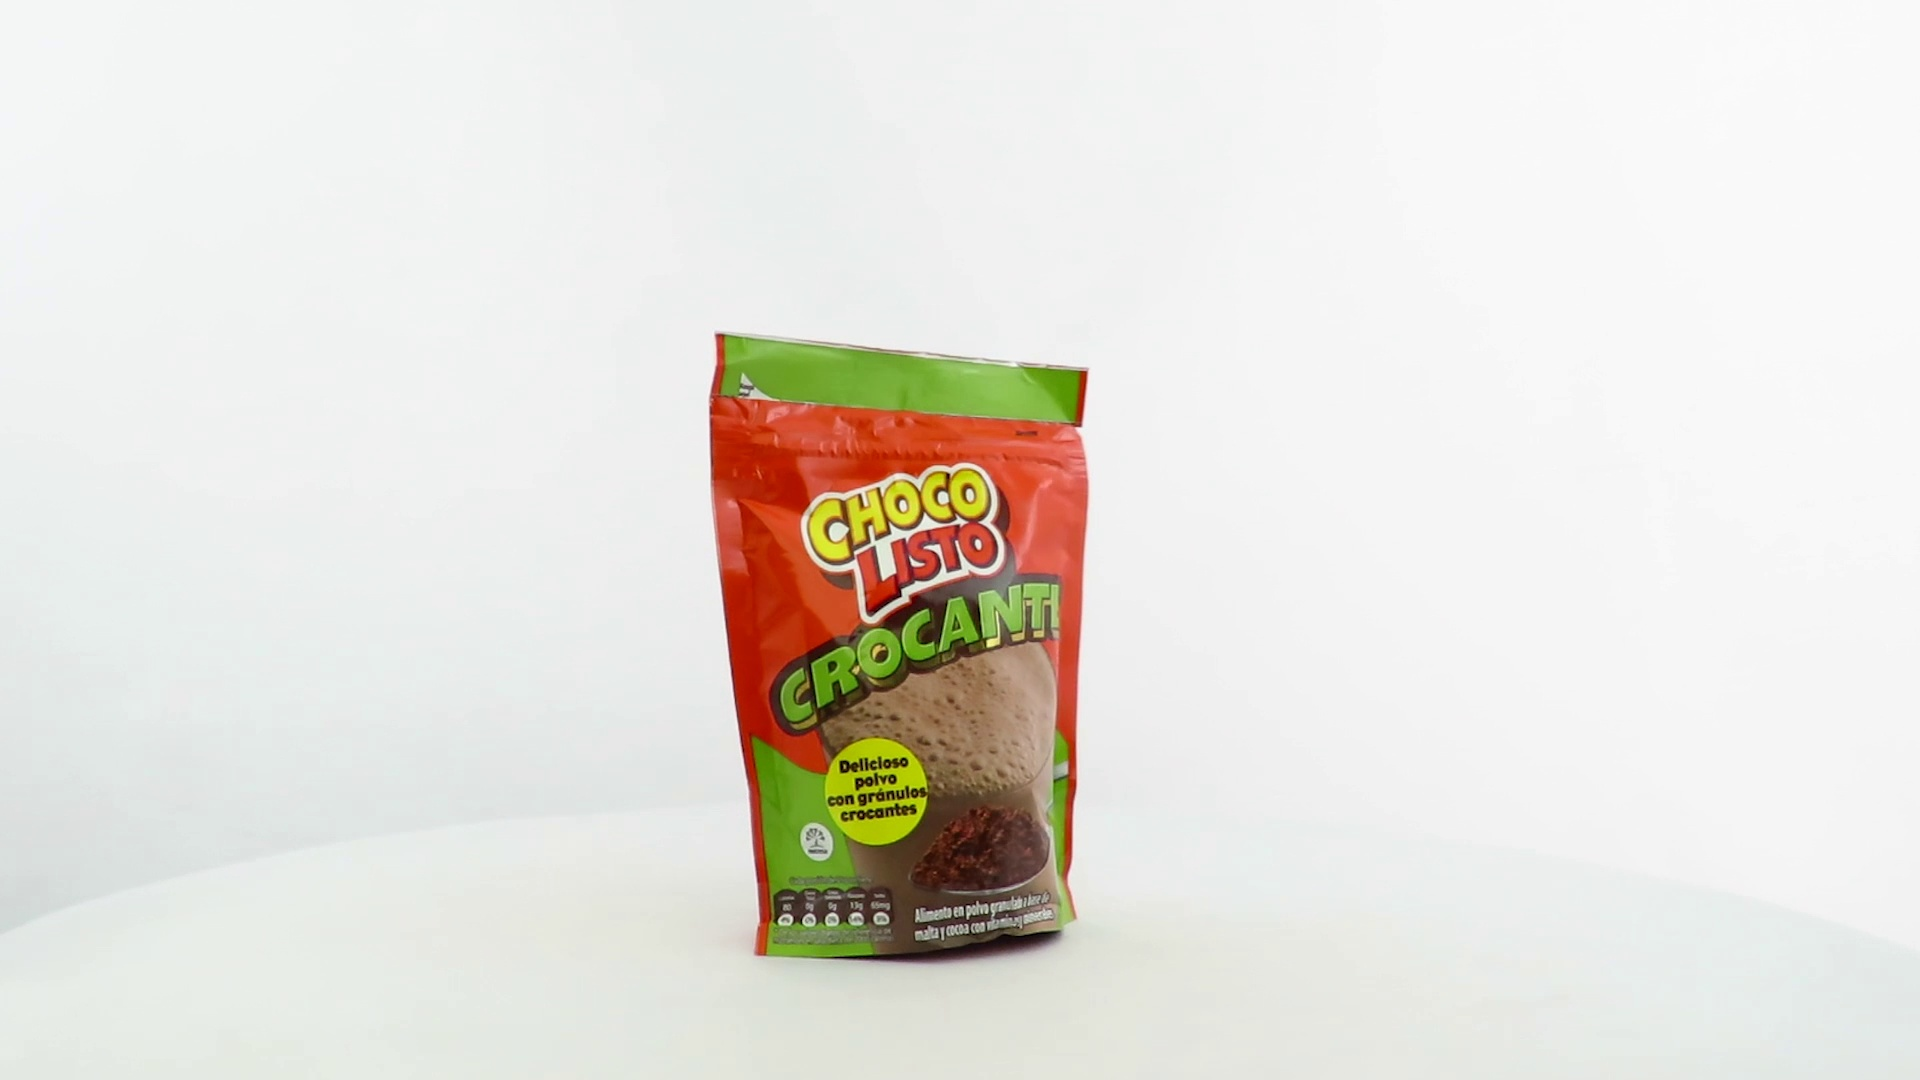COL0170102DYP10000: (704, 326, 1095, 971)
